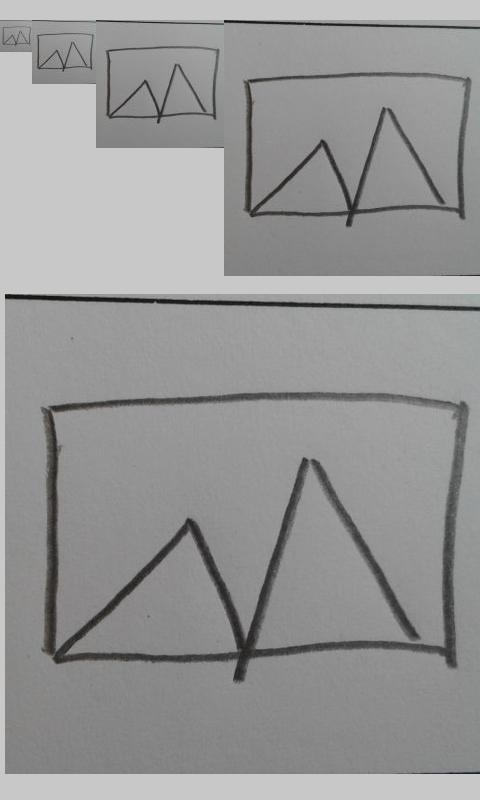image_view: (40, 389, 467, 667), (242, 69, 473, 220), (105, 45, 221, 119), (36, 32, 94, 70), (1, 25, 31, 46)
